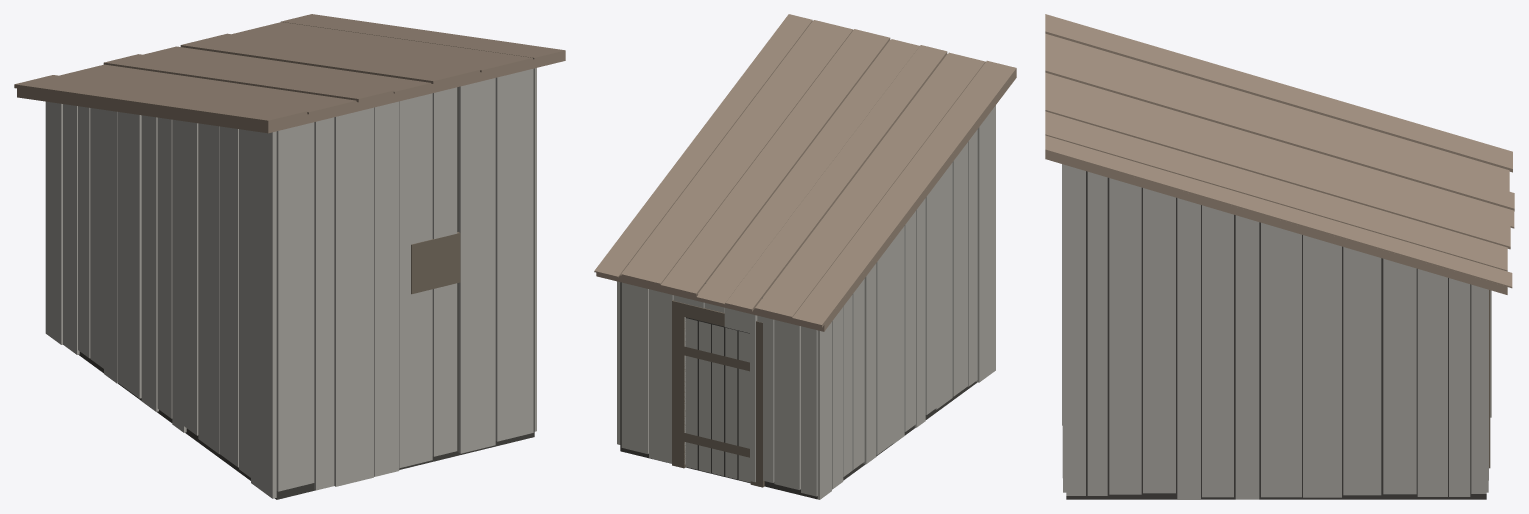
Rendered from recon_1835_north_a4_052__inferred_1835.glb.
3 renders of one model, left to right at view 1: azimuth 30°, elevation 25°; view 2: azimuth 150°, elevation 25°; view 3: azimuth 270°, elevation 25°, orthographic. The views are drawn at different scales.
Visible parts, largest first — view 1: recon_1835_north_a4_052__inferred_1835; view 2: recon_1835_north_a4_052__inferred_1835; view 3: recon_1835_north_a4_052__inferred_1835.
Boxes of the visible parts, left/top/right/bottom form: recon_1835_north_a4_052__inferred_1835: left=14, top=14, right=565, bottom=499; recon_1835_north_a4_052__inferred_1835: left=594, top=14, right=1016, bottom=499; recon_1835_north_a4_052__inferred_1835: left=1045, top=14, right=1514, bottom=499.
Size of the model in its own units: 2.96 by 3.73 by 4.39.
